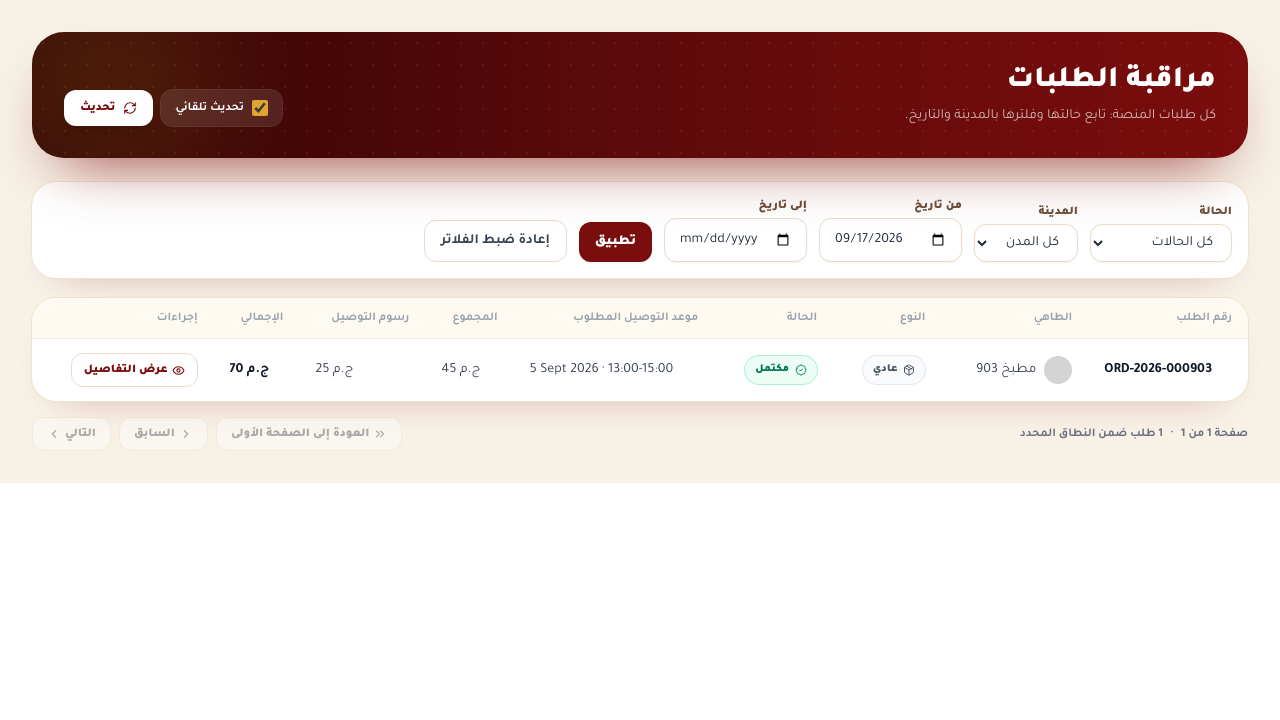
Orders Oversight — accessibility (WCAG 2.1 AA, FR-034/035, SC-014/015) › the order detail dialog has no AA violations and is keyboard-dismissible
The width and height of the screenshot is (1280, 720).
Expected: the text "ORD-2026-000903" is shown, [1088,338,1248,401]
Click the button "عرض التفاصيل": (134, 370) [71,353,198,387]
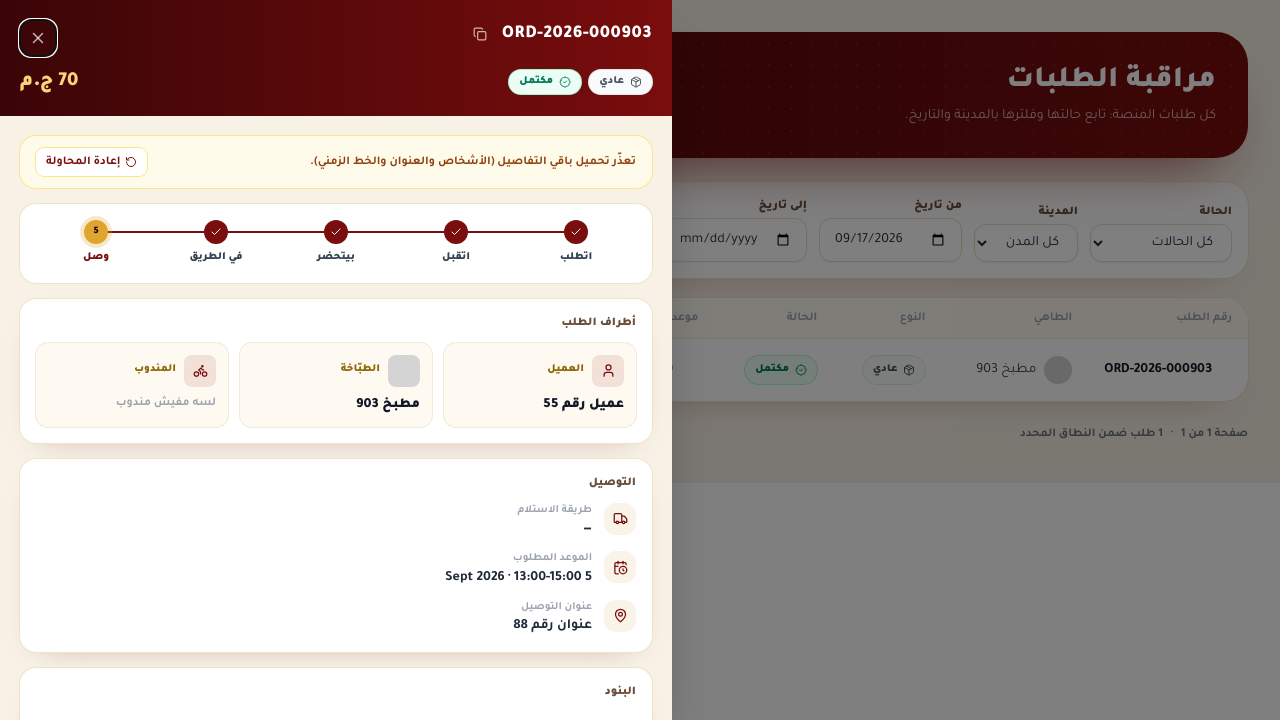
Press Escape
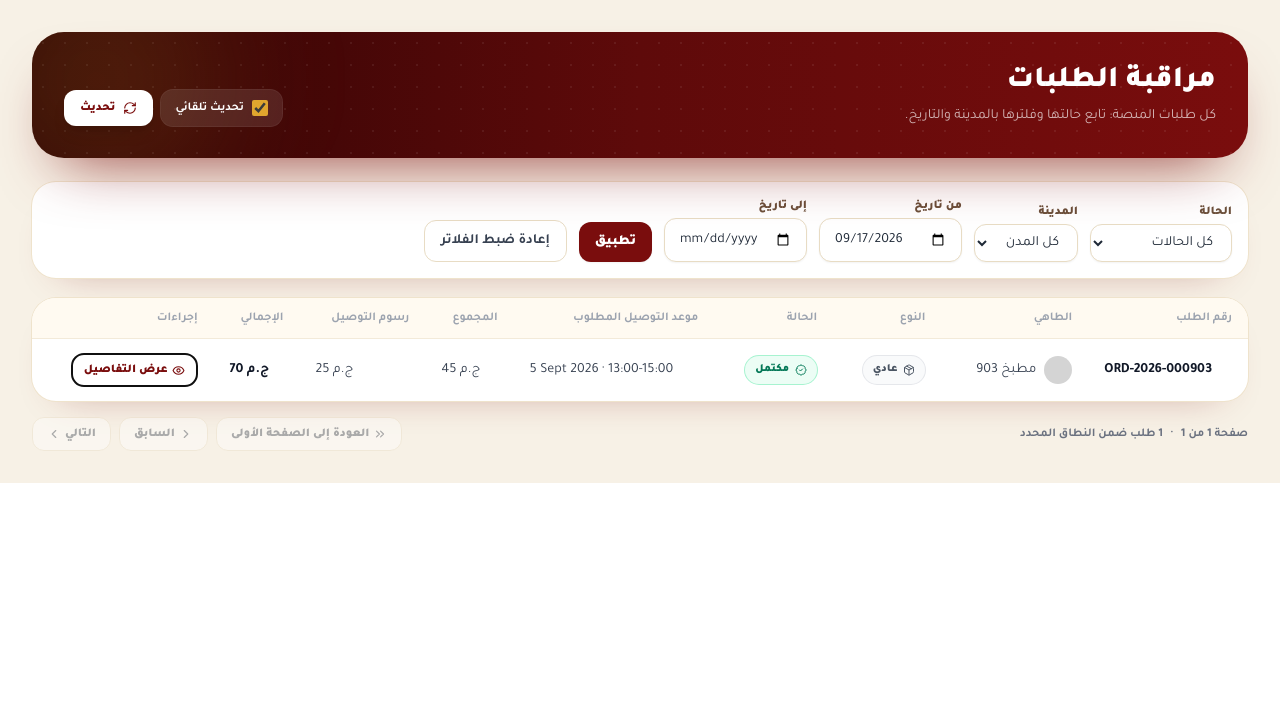
Expected: the dialog is gone
